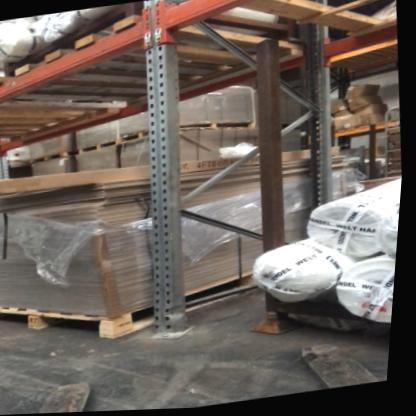vertical_damage: (153, 298, 204, 345)
